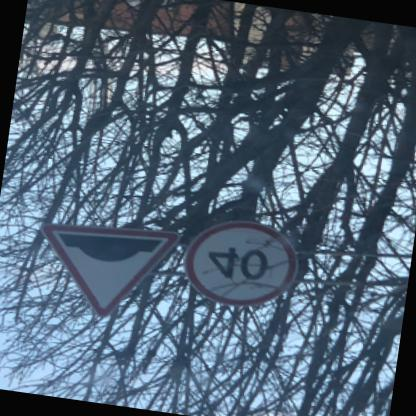speedlimit: (174, 214, 298, 314)
